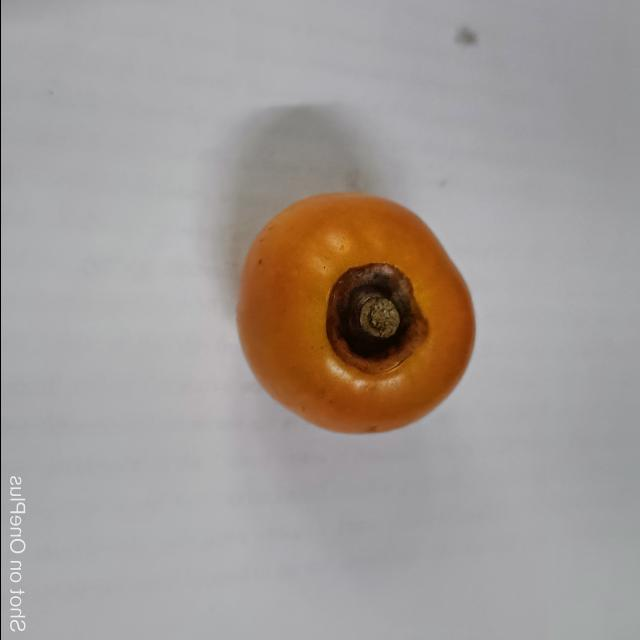Anthrocnose: (320, 260, 430, 384)
